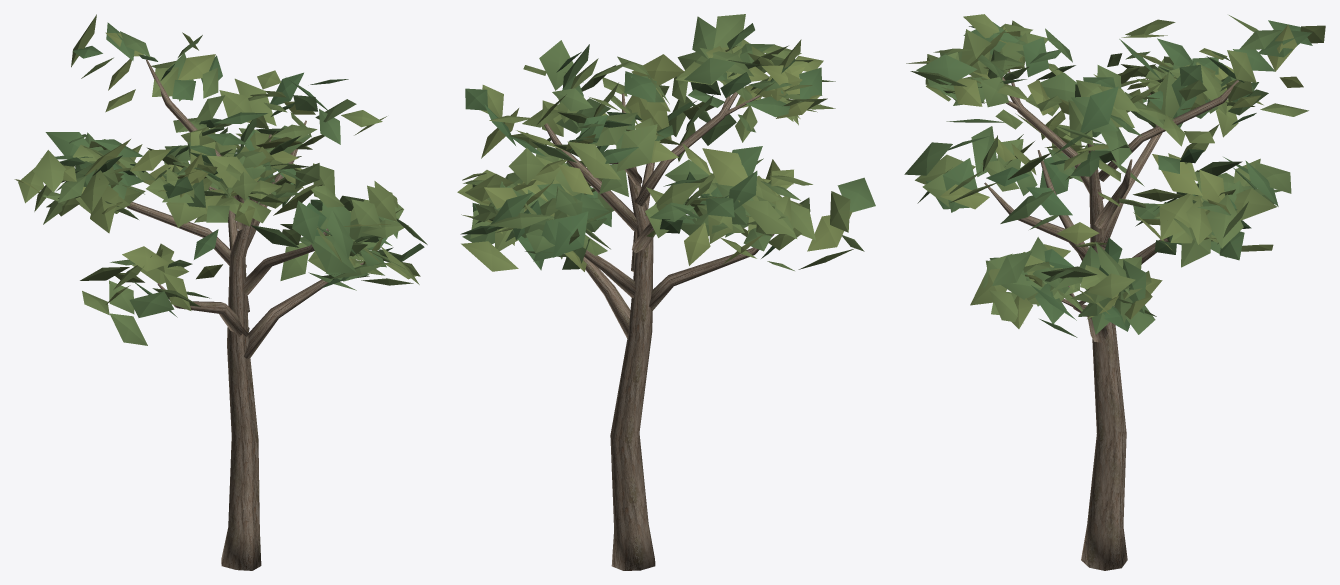
File: alder-camp-low-r7.glb
3 views of the same model, side by side, from view 1: azimuth 30°, elevation 25°; view 2: azimuth 150°, elevation 25°; view 3: azimuth 270°, elevation 25° (orthographic). The views are drawn at different scales.
Visible parts, largest first — view 1: r7_alder_leaves.001, r7_alder_bark.001; view 2: r7_alder_leaves.001, r7_alder_bark.001; view 3: r7_alder_leaves.001, r7_alder_bark.001.
Part boxes in pixels (bbox=[...]): r7_alder_leaves.001: bbox=[14, 14, 427, 345]; r7_alder_bark.001: bbox=[126, 59, 363, 570]; r7_alder_leaves.001: bbox=[457, 14, 875, 271]; r7_alder_bark.001: bbox=[544, 92, 774, 570]; r7_alder_leaves.001: bbox=[904, 14, 1325, 337]; r7_alder_bark.001: bbox=[984, 70, 1238, 570].
Bounding box in the file's own units: 6.39 × 8.48 × 6.29.
2 materials, 1 textured.
